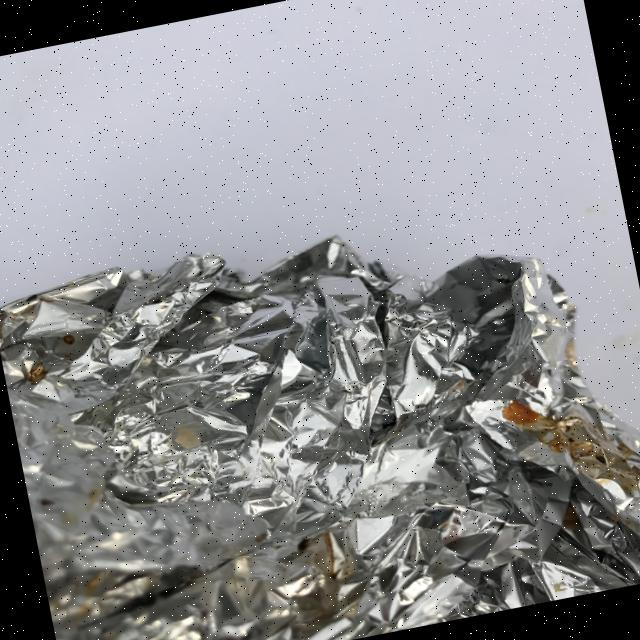metal: (0, 169, 640, 640)
